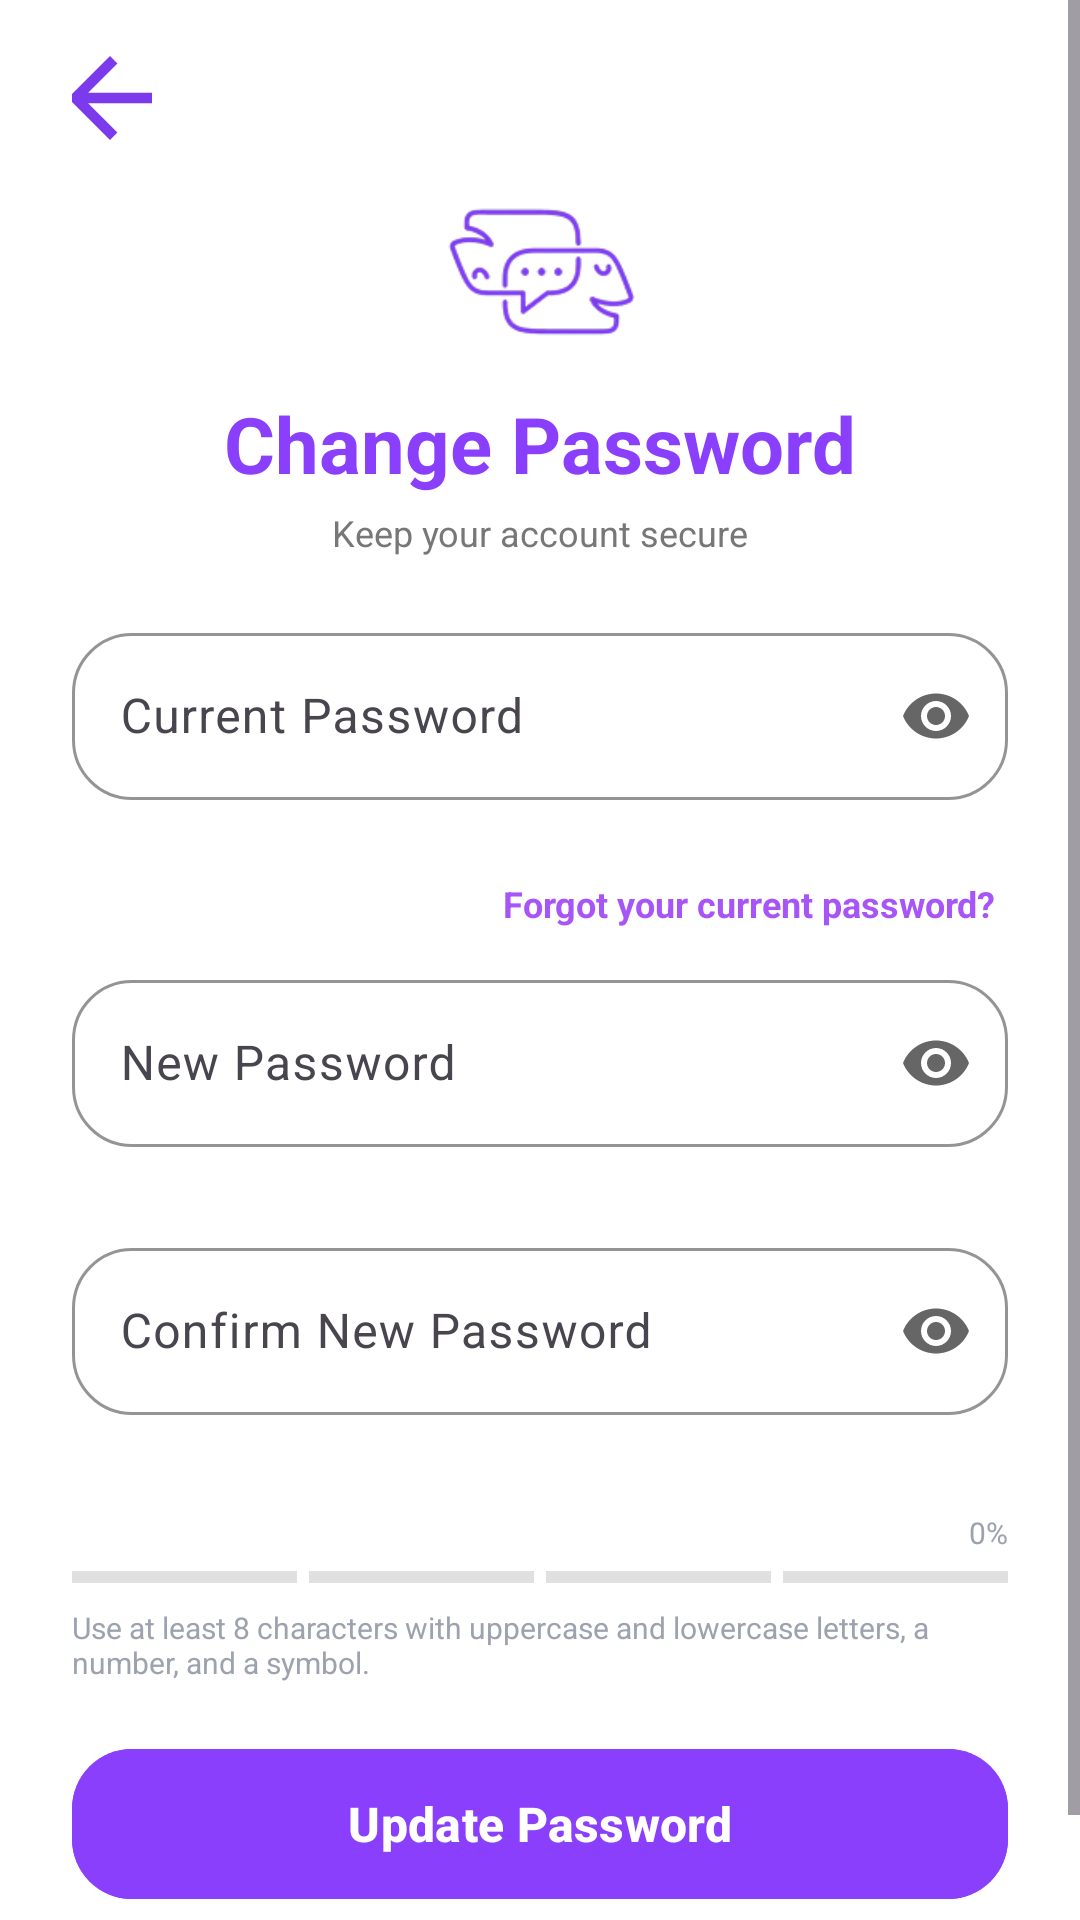

Icon click points for this 1080×1920 phone screenshot, format (x,y):
Back: (112,98)
